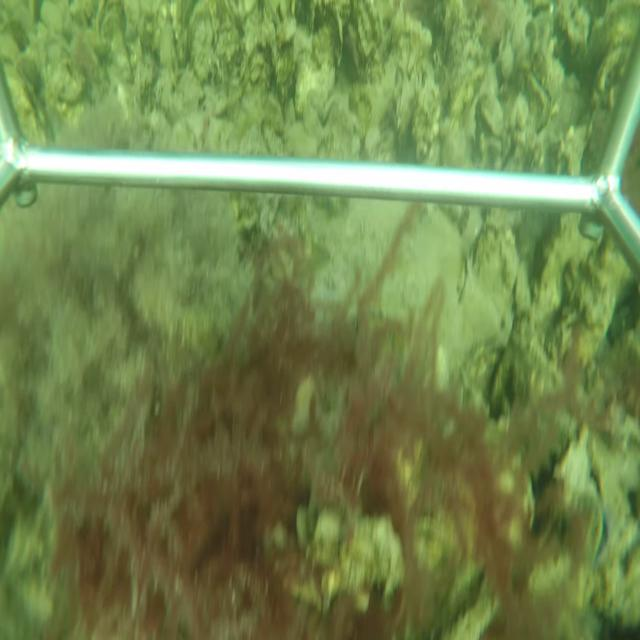Oyster-Closed: (454, 227, 520, 346)
Oyster-Indeterminate: (294, 9, 343, 116)
